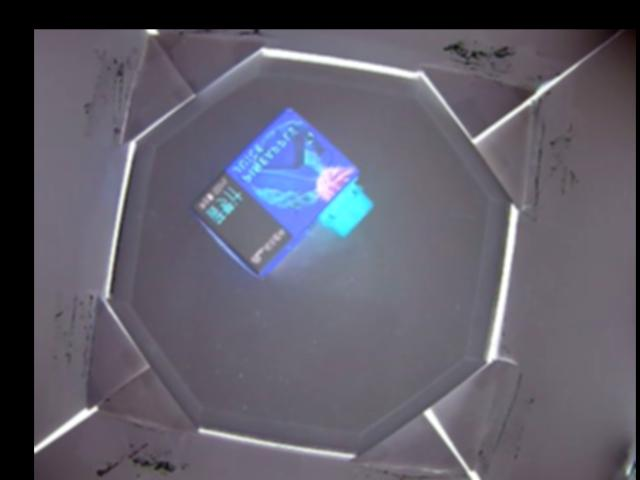Bottle: (192, 110, 376, 285)
